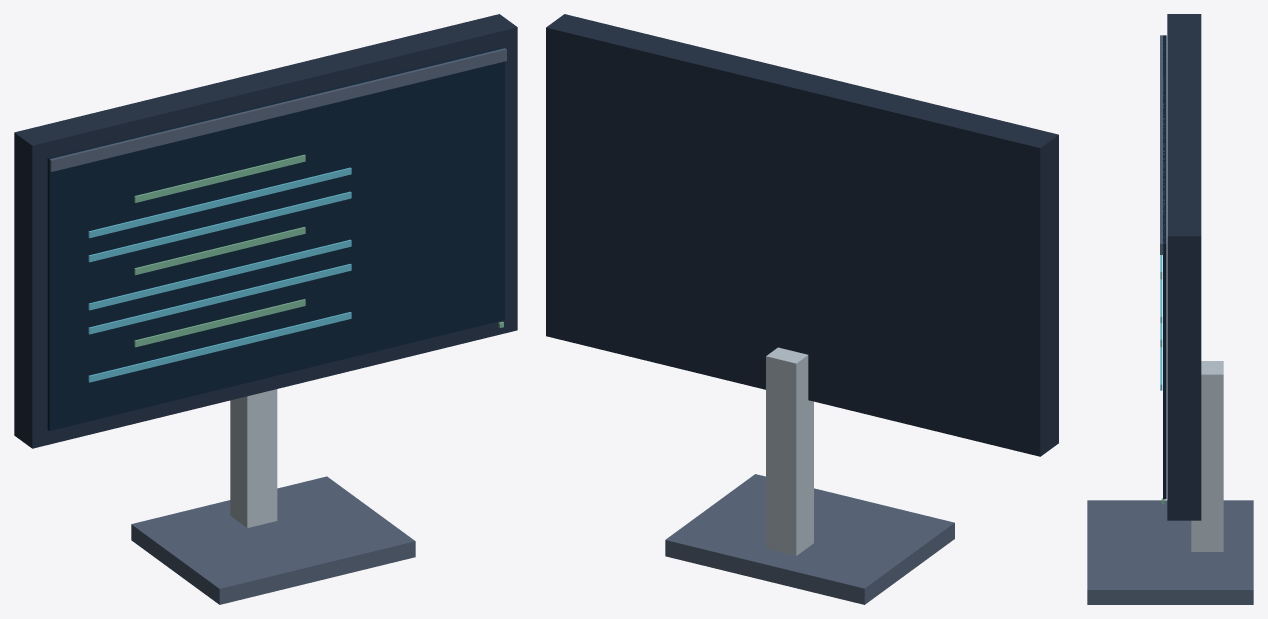
Rendered from officeMonitor.glb.
3 renders of one model, left to right at view 1: azimuth 30°, elevation 25°; view 2: azimuth 150°, elevation 25°; view 3: azimuth 270°, elevation 25°, orthographic. The views are drawn at different scales.
Bounding box in the file's own units: 0.57 × 0.52 × 0.18.
